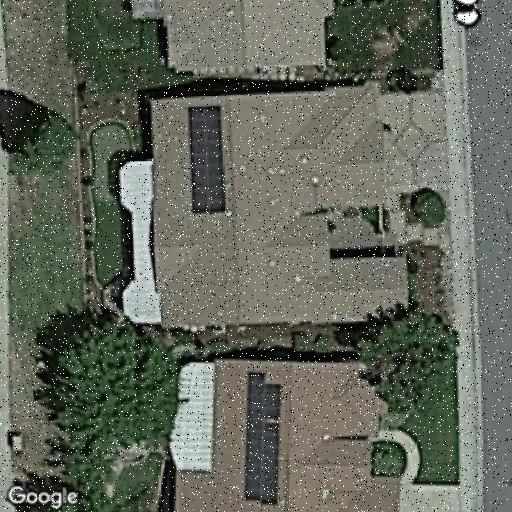solar-panel: (242, 368, 286, 508), (186, 104, 228, 216)
